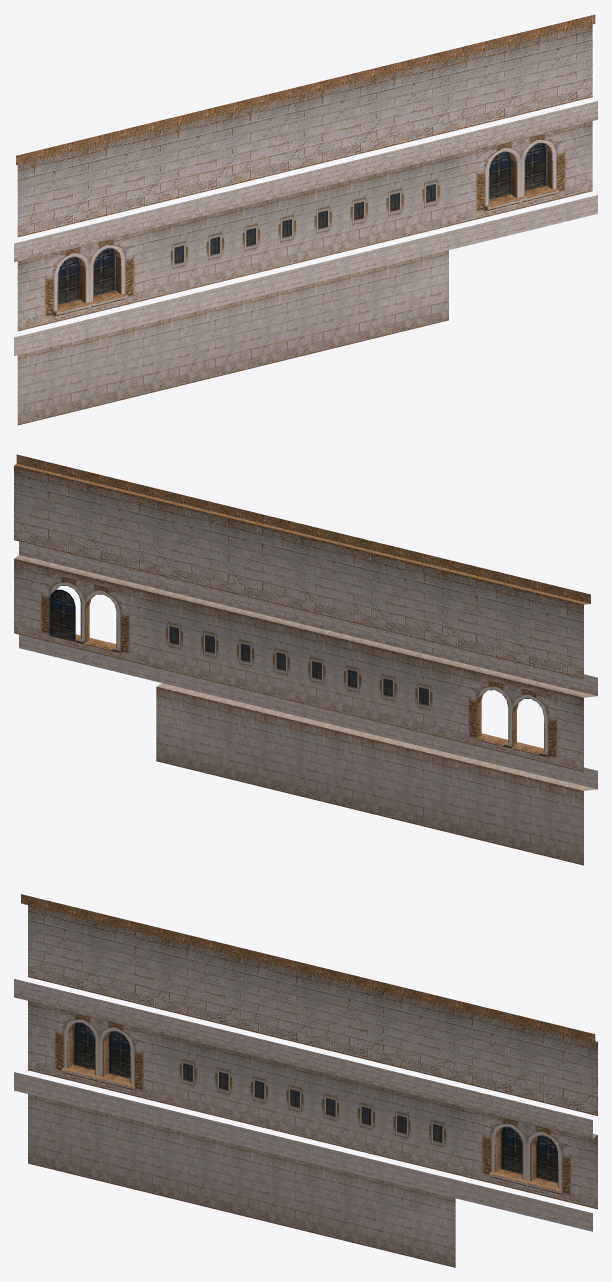
Rendered from M2Zone4_Building15_C.glb.
3 views of the same model, one above another, from view 1: azimuth 30°, elevation 25°; view 2: azimuth 150°, elevation 25°; view 3: azimuth 330°, elevation 25° (orthographic).
Visible parts, largest first — view 1: M2ZONE4_BUILDING15_C; view 2: M2ZONE4_BUILDING15_C; view 3: M2ZONE4_BUILDING15_C.
Boxes of the visible parts, x1,y1,x2,y2 form: M2ZONE4_BUILDING15_C: [14, 14, 597, 425]; M2ZONE4_BUILDING15_C: [14, 454, 597, 865]; M2ZONE4_BUILDING15_C: [14, 894, 597, 1267].
Bounding box in the file's own units: 32.5 × 14.5 × 1.
5 materials, 5 textured.
